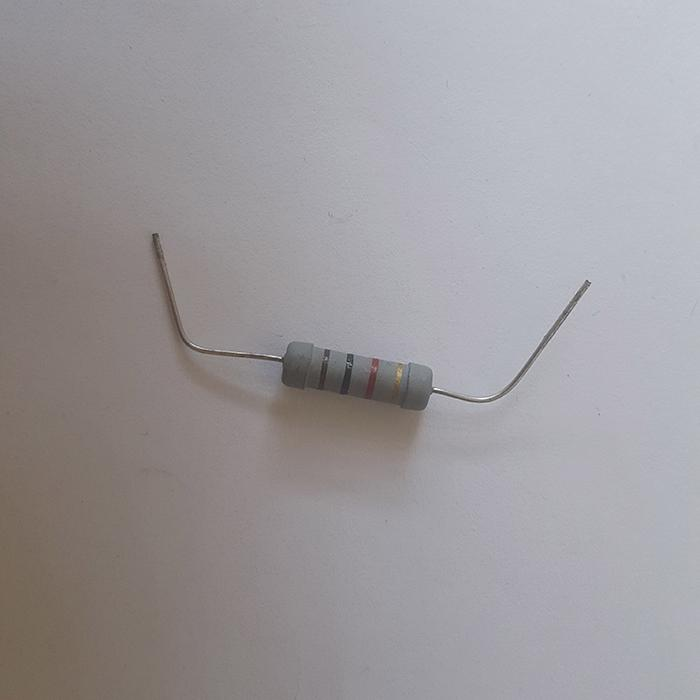resistor: (278, 339, 436, 412)
